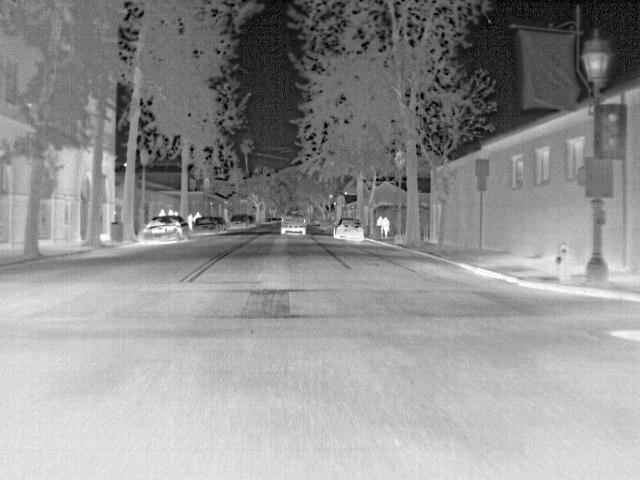car: (139, 214, 190, 244), (278, 213, 308, 237), (332, 218, 364, 240), (192, 218, 218, 237), (229, 214, 248, 230), (212, 218, 229, 234)
person: (380, 216, 392, 237)
